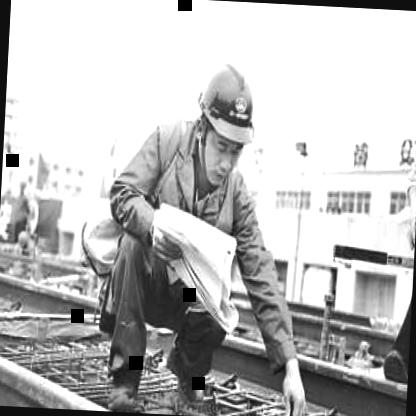helmet: (184, 44, 265, 192)
